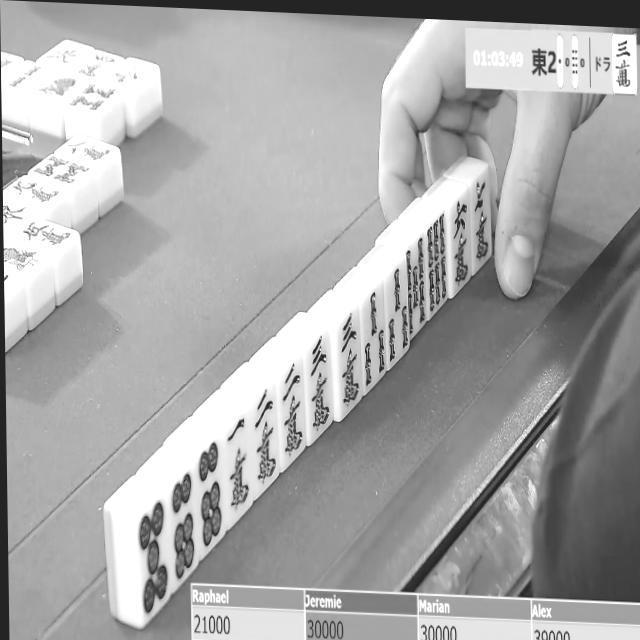1C: (223, 410, 253, 522)
2C: (252, 384, 280, 490), (280, 356, 307, 463)
3B: (361, 284, 387, 389), (387, 261, 411, 367)
3C: (305, 329, 334, 439), (337, 308, 364, 416), (614, 36, 637, 94)
5B: (406, 238, 429, 338)
5D: (137, 497, 171, 622)
6B: (426, 212, 450, 317)
6C: (448, 196, 469, 293)
6D: (170, 466, 200, 587), (197, 435, 227, 556)
7C: (470, 170, 490, 268)
8B: (34, 152, 92, 191)
